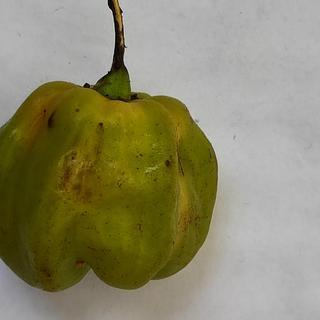Fly-bites: (156, 153, 179, 176), (70, 100, 87, 120), (93, 115, 111, 133)
striped: (45, 106, 61, 129)
